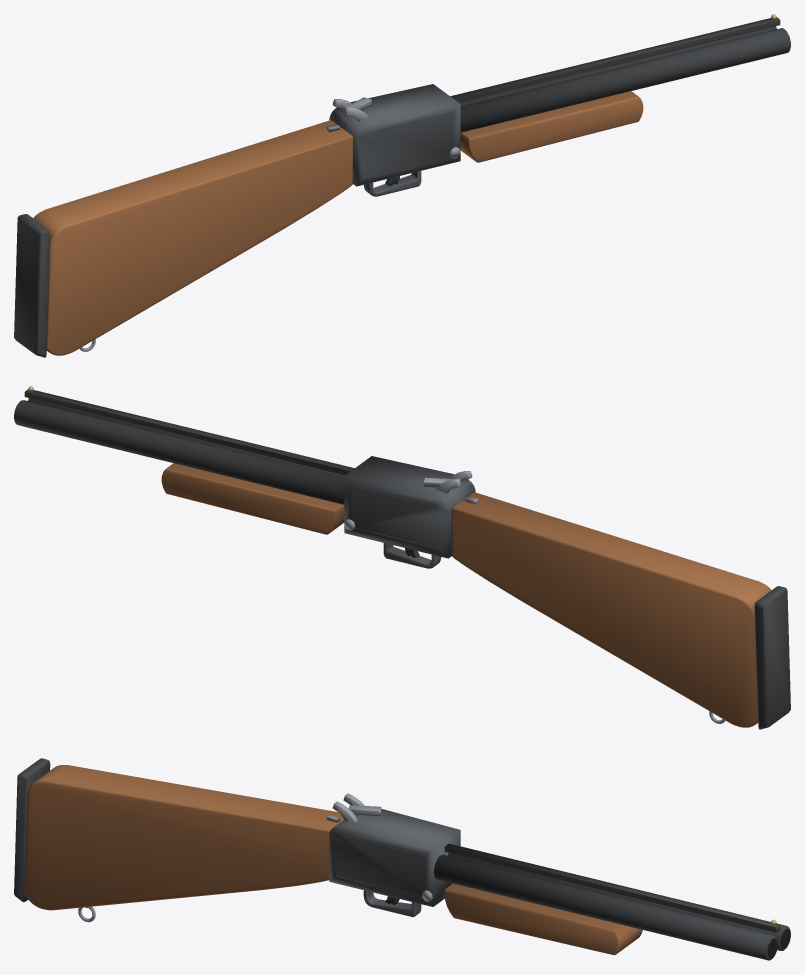
Rendered from dbarrel.glb.
3 views of the same model, one above another, from view 1: azimuth 30°, elevation 25°; view 2: azimuth 150°, elevation 25°; view 3: azimuth 330°, elevation 25° (orthographic).
Visible parts, largest first — view 1: lod_skin_wood, lod_metal_dark, lod_skin_paint, lod_metal_steel; view 2: lod_skin_wood, lod_metal_dark, lod_skin_paint, lod_metal_steel; view 3: lod_skin_wood, lod_metal_dark, lod_skin_paint, lod_metal_steel.
Part boxes in pixels (x1=…): lod_skin_wood: x1=33, y1=91, x2=643, y2=355; lod_metal_dark: x1=14, y1=17, x2=790, y2=357; lod_skin_paint: x1=329, y1=84, x2=460, y2=196; lod_metal_steel: x1=79, y1=97, x2=460, y2=351; lod_skin_wood: x1=161, y1=463, x2=771, y2=727; lod_metal_dark: x1=14, y1=389, x2=790, y2=729; lod_skin_paint: x1=344, y1=456, x2=475, y2=568; lod_metal_steel: x1=344, y1=471, x2=725, y2=723; lod_skin_wood: x1=24, y1=765, x2=642, y2=955; lod_metal_dark: x1=14, y1=758, x2=790, y2=960; lod_skin_paint: x1=329, y1=809, x2=460, y2=916; lod_metal_steel: x1=78, y1=793, x2=432, y2=922.
Bounding box in the file's own units: 0.7965 × 0.1872 × 0.052.
